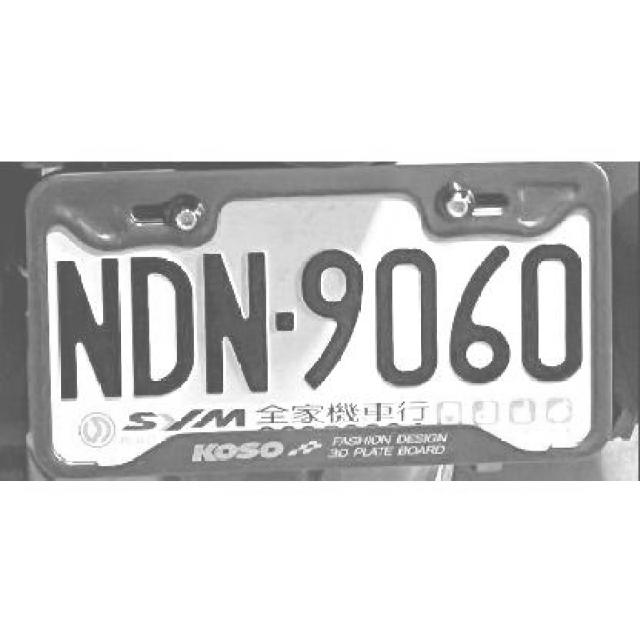-: (274, 309, 294, 329)
0: (366, 240, 440, 386), (517, 242, 585, 384)
6: (443, 231, 515, 389)
9: (294, 243, 368, 389)
D: (128, 252, 197, 396)
N: (50, 256, 124, 402), (200, 248, 274, 388)
